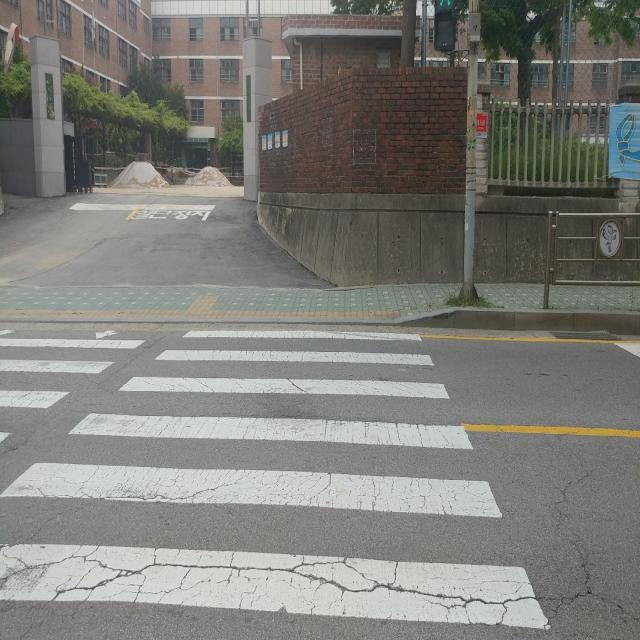횡단보도: (0, 329, 551, 640)
